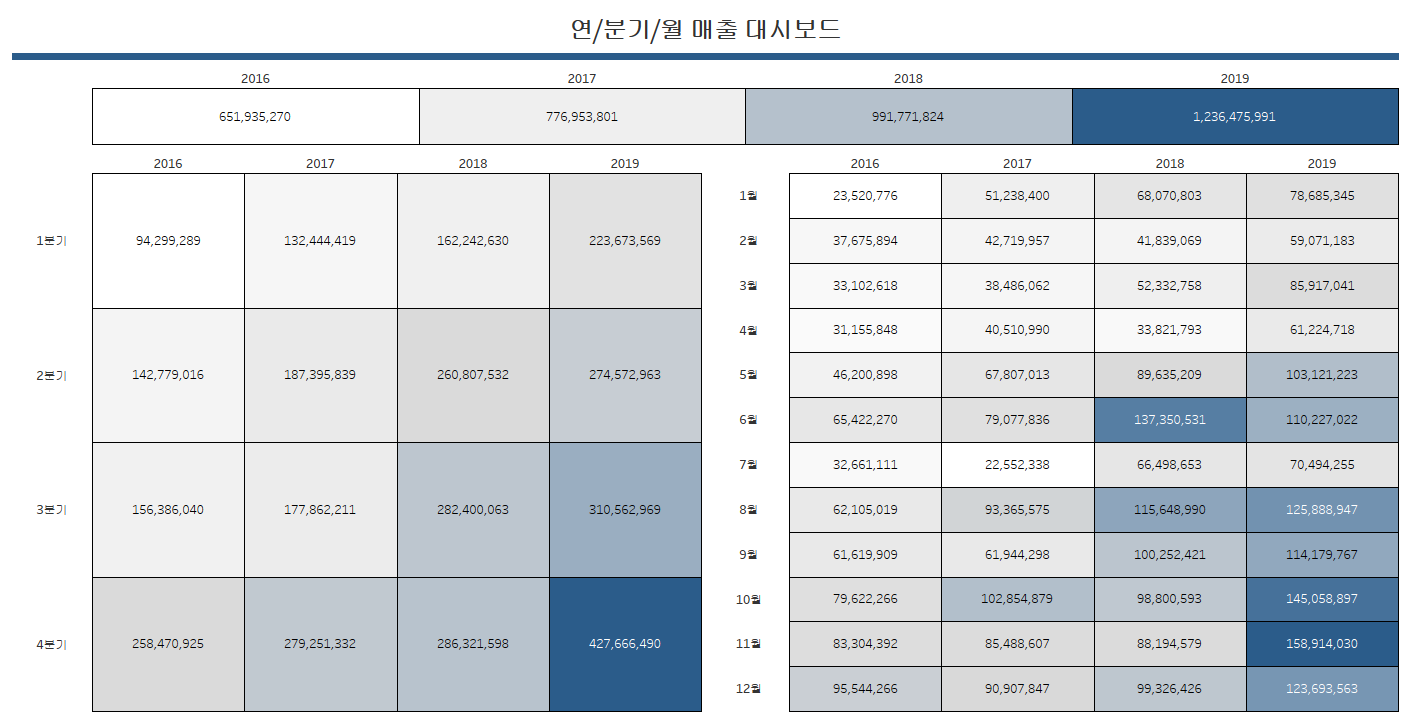

Layout of this report page (visuals, bound fields, positions):
{"tool":"tableau","page":{"name":"대시보드 3","canvas":[1000,1000],"units":"permille","ordinal":1},"visuals":[{"type":"worksheet","box":[0,0,1000,1000]},{"type":"worksheet","box":[5.8,11.1,494.2,62.1]},{"type":"worksheet","title":"연간추이","mark":"Automatic","rows":["여객수"],"cols":["Year"],"param":"[federated.1rtup0t1nz3gc11an6fhu0ijwh7k].[:Measure Names]","box":[500,11.1,366.8,62.1]},{"type":"worksheet","box":[866.8,11.1,127.4,62.1]},{"type":"worksheet","param":"horz","box":[5.8,73.2,988.5,915.8]},{"type":"worksheet","param":"vert","box":[5.8,73.2,988.5,915.8]},{"type":"worksheet","box":[5.8,73.2,988.5,24.9]},{"type":"worksheet","param":"vert","box":[5.8,98.1,988.5,890.9]},{"type":"worksheet","param":"horz","box":[5.8,98.1,988.5,890.9]},{"type":"worksheet","box":[5.8,98.1,988.5,890.9]},{"type":"worksheet","title":"연간 테이블","mark":"Square","rows":["Year"],"box":[5.8,98.1,494.2,890.9]},{"type":"worksheet","title":"연간추이","mark":"Automatic","rows":["여객수"],"cols":["Year"],"box":[500,98.1,494.2,890.9]}]}

Visuals, with their boxes on the dashboard's canvas, which has no fixed pixel size, in thousandths of its width and height (x1, y1, x2, y2). These are canvas units, not pixel positions in the 1411x724 screenshot, which may show the page scaled, cropped or inside an application window:
worksheet: rect(0, 0, 1000, 1000)
worksheet: rect(6, 11, 500, 73)
"연간추이" worksheet: rect(500, 11, 867, 73)
worksheet: rect(867, 11, 994, 73)
worksheet: rect(6, 73, 994, 989)
worksheet: rect(6, 73, 994, 989)
worksheet: rect(6, 73, 994, 98)
worksheet: rect(6, 98, 994, 989)
worksheet: rect(6, 98, 994, 989)
worksheet: rect(6, 98, 994, 989)
"연간 테이블" worksheet (Square marks): rect(6, 98, 500, 989)
"연간추이" worksheet: rect(500, 98, 994, 989)
